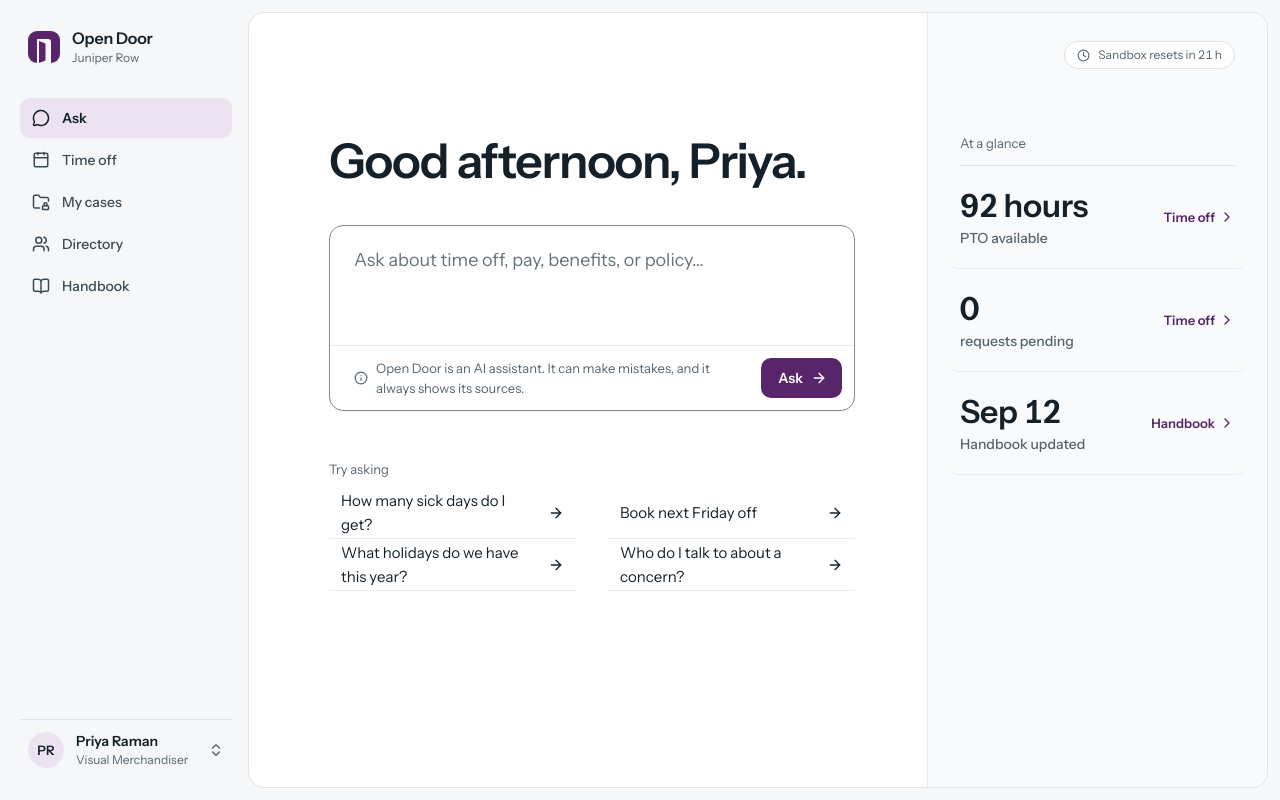
Test case: asking › keeps the question and announces the error when the send fails, and Ask sends it again
Type "How many sick days do I get?" into the text box named "Ask Open Door". click: (592, 282)
box: top-left (330, 226), bottom-right (854, 338)
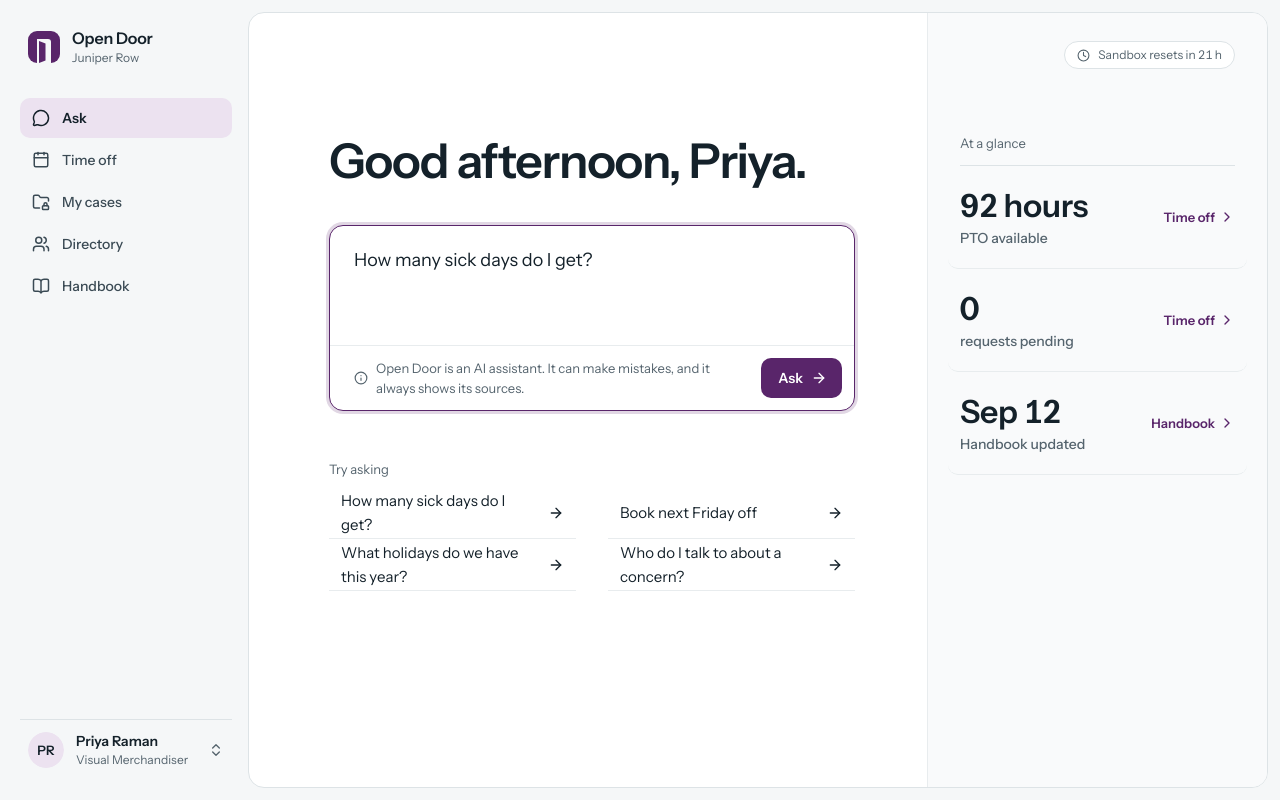
Click the button "Ask". click: (802, 378)
box: top-left (761, 358), bottom-right (842, 398)
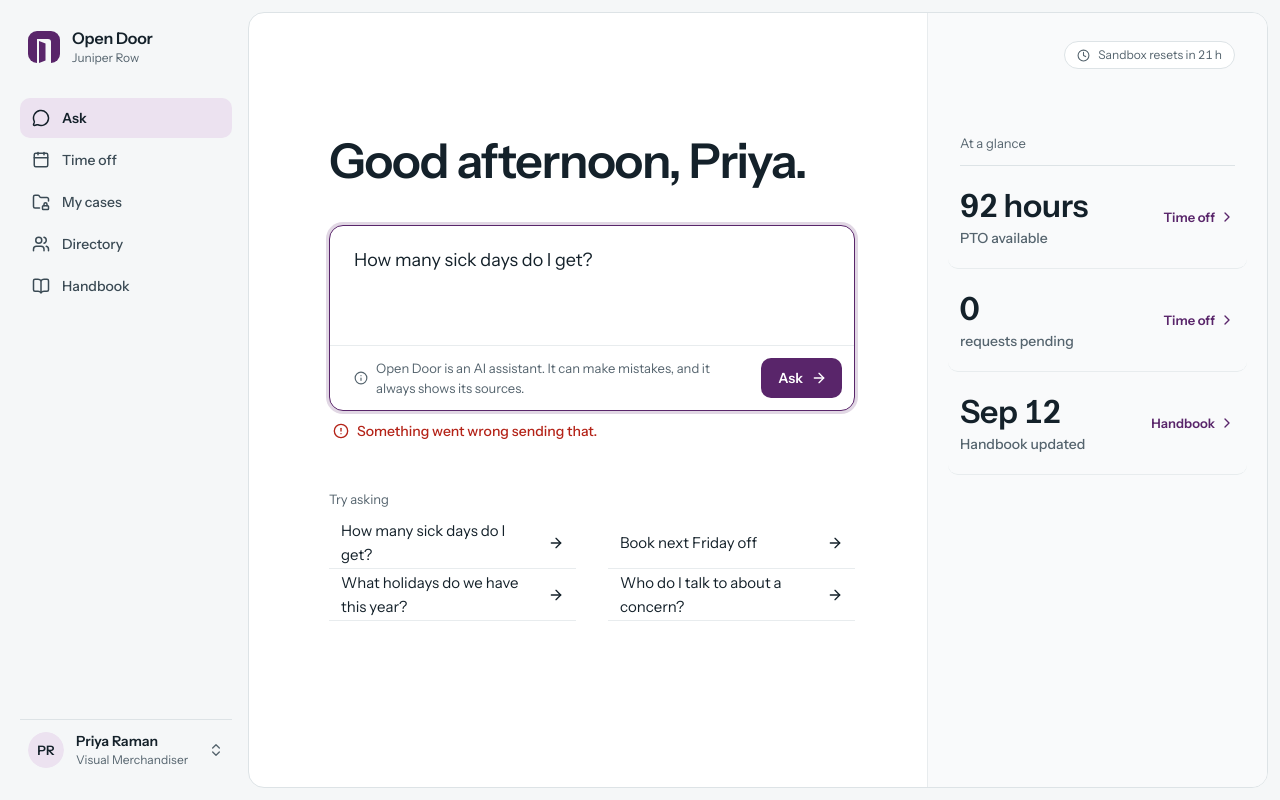
Expected: the heading "Good afternoon, Priya." is shown, top-left (329, 133), bottom-right (855, 189)
Result: the text box named "Ask Open Door" holds "How many sick days do I get?" at top-left (330, 226), bottom-right (854, 338)
Result: the message reads "Something went wrong sending that." at top-left (357, 422), bottom-right (597, 440)
Click the button "Ask". click: (802, 378)
box: top-left (761, 358), bottom-right (842, 398)
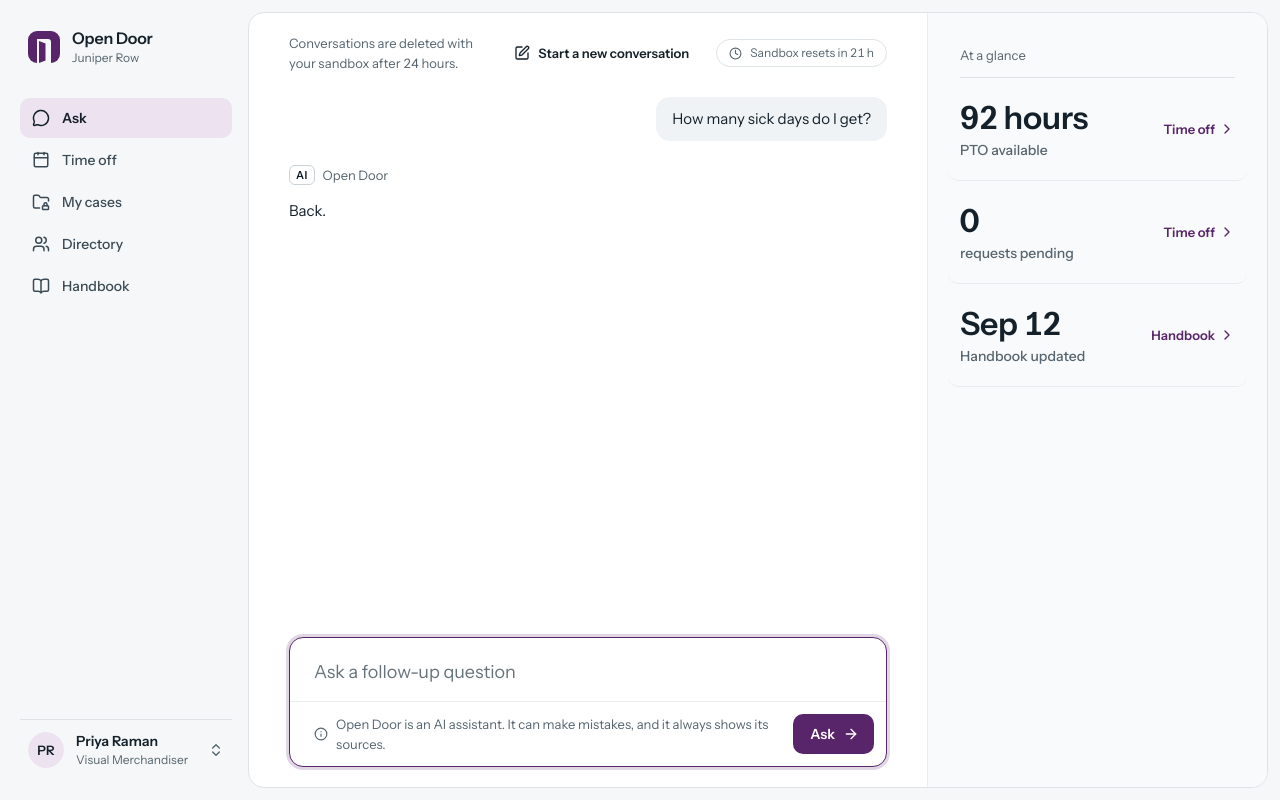
Result: the text "Back." is shown at top-left (289, 201), bottom-right (326, 220)
Result: the message "Something went wrong sending that." is gone
